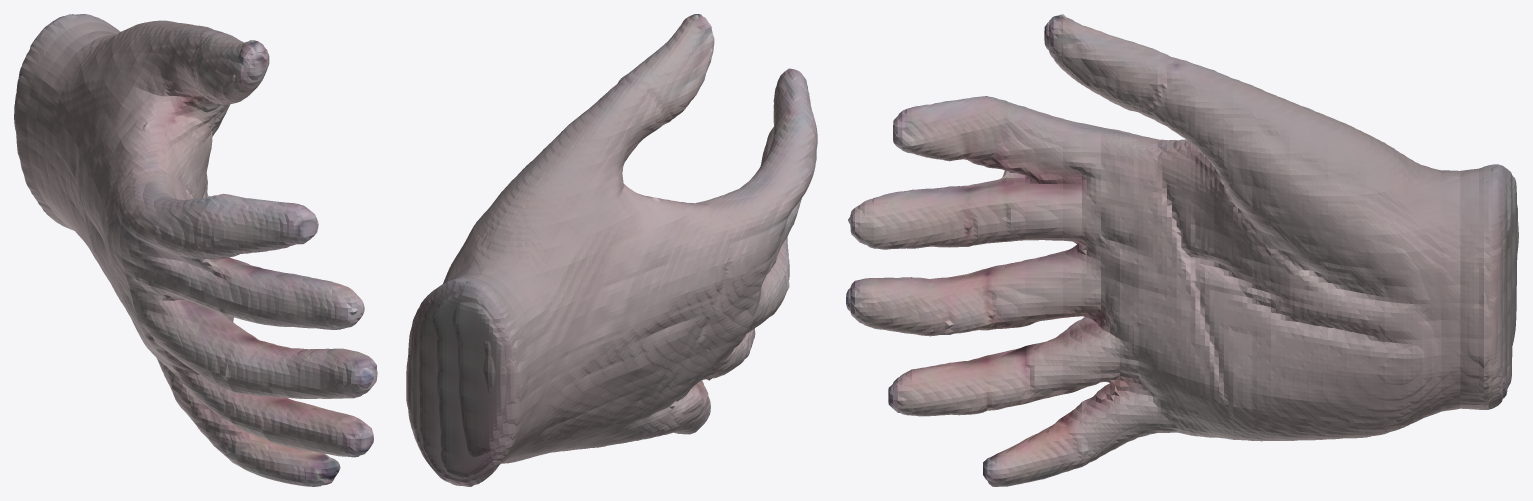
Rendered from tttt.glb.
3 renders of one model, left to right at view 1: azimuth 30°, elevation 25°; view 2: azimuth 150°, elevation 25°; view 3: azimuth 270°, elevation 25°, orthographic. The views are drawn at different scales.
Parts seen in each view (by area): view 1: world; view 2: world; view 3: world.
Boxes of the visible parts, x1,y1,x2,y2 form: world: [14, 14, 377, 486]; world: [406, 14, 817, 486]; world: [846, 14, 1518, 486].
Size of the model in its own units: 0.3641 by 0.7227 by 0.9674.
